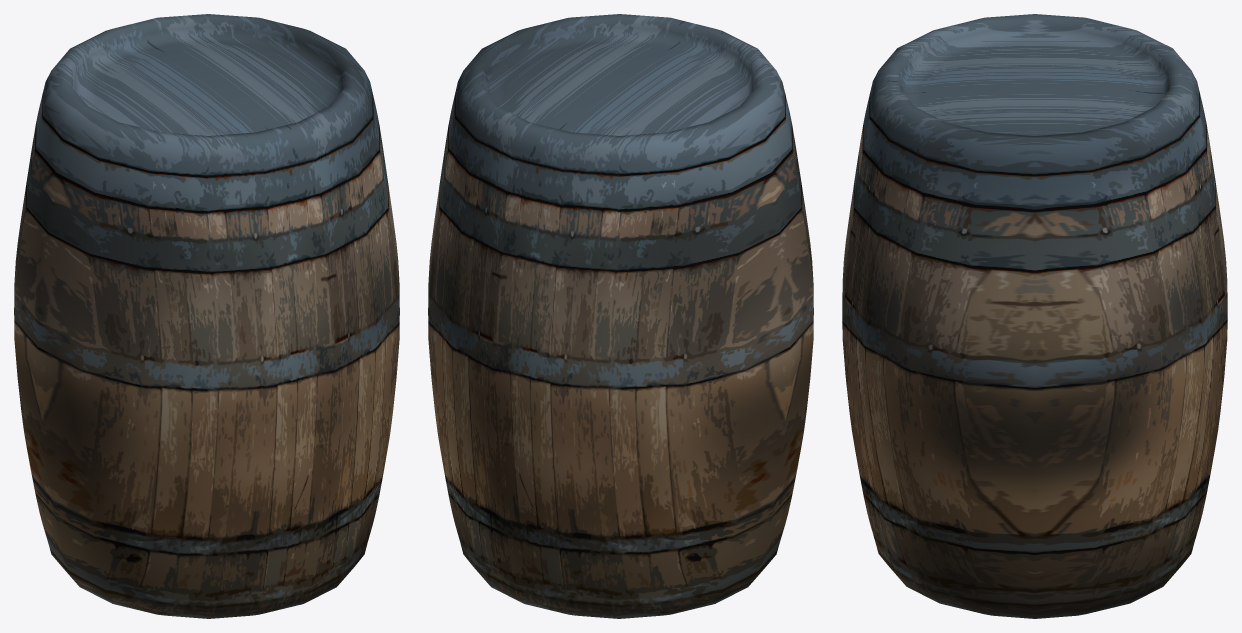
Rendered from barrel.fbx.
3 views of the same model, side by side, from view 1: azimuth 30°, elevation 25°; view 2: azimuth 150°, elevation 25°; view 3: azimuth 270°, elevation 25° (orthographic).
Parts seen in each view (by area): view 1: pCylinder1; view 2: pCylinder1; view 3: pCylinder1.
Part boxes in pixels (x1,y1,x2,y2): pCylinder1: (14, 14, 399, 618); pCylinder1: (428, 14, 813, 618); pCylinder1: (842, 14, 1227, 618).
Size of the model in its own units: 18.04 by 25.35 by 17.78.
